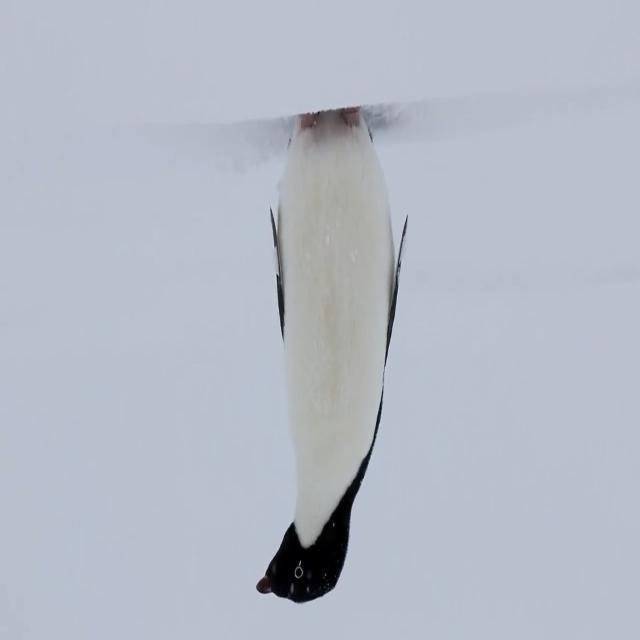penguin: (253, 106, 411, 603)
